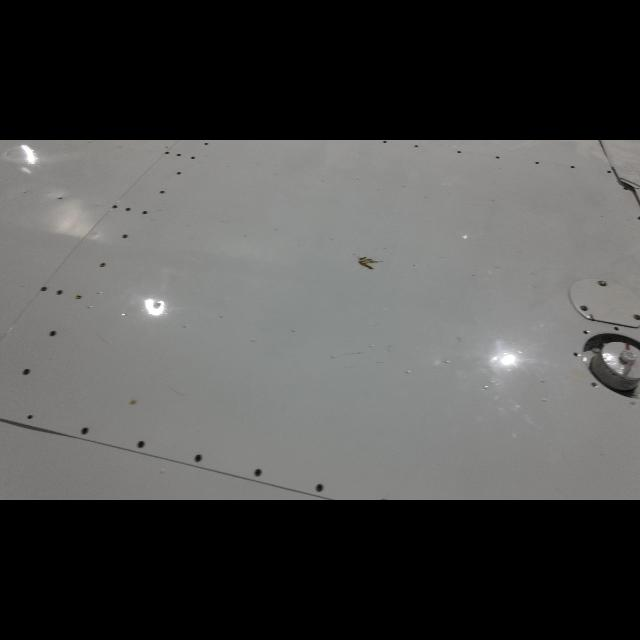Missing Fastener: (586, 379, 600, 391), (24, 412, 38, 422), (572, 348, 582, 359), (580, 327, 590, 337), (612, 324, 620, 332)
dent: (613, 175, 640, 207)
